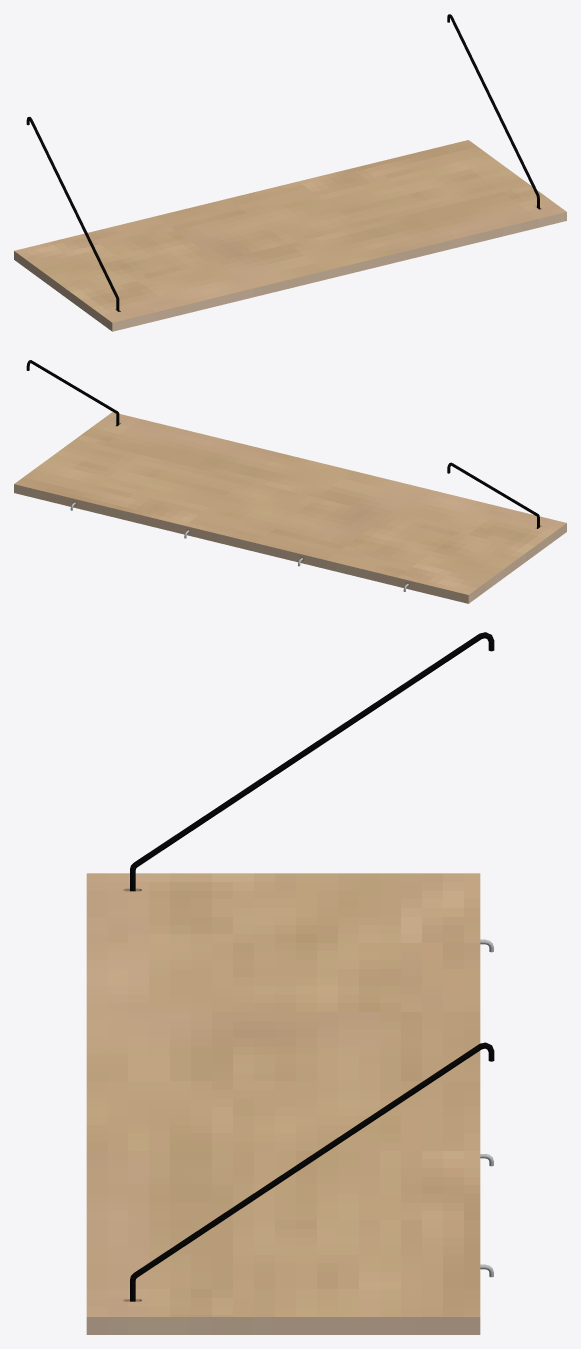
The model's file is board80x30_t3.glb.
The picture shows the model from 3 angles, top to bottom: view 1: azimuth 30°, elevation 25°; view 2: azimuth 150°, elevation 25°; view 3: azimuth 270°, elevation 25°; orthographic projection. The views are drawn at different scales.
Visible parts, largest first — view 1: Geom3D (×4); view 2: Geom3D (×4); view 3: Geom3D (×4).
Part boxes in pixels (box(x1,y1,x2,y2)): Geom3D (×4): box(14, 14, 566, 331); Geom3D (×4): box(14, 360, 566, 603); Geom3D (×4): box(86, 632, 494, 1334).
Size of the model in its own units: 0.8 by 0.2323 by 0.3109.
Materials: 4 (3 with a texture image).
